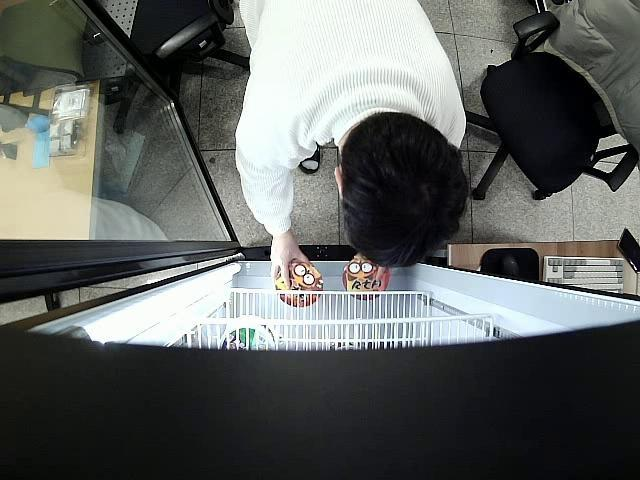05_nuguri_L: (273, 259, 324, 308)
